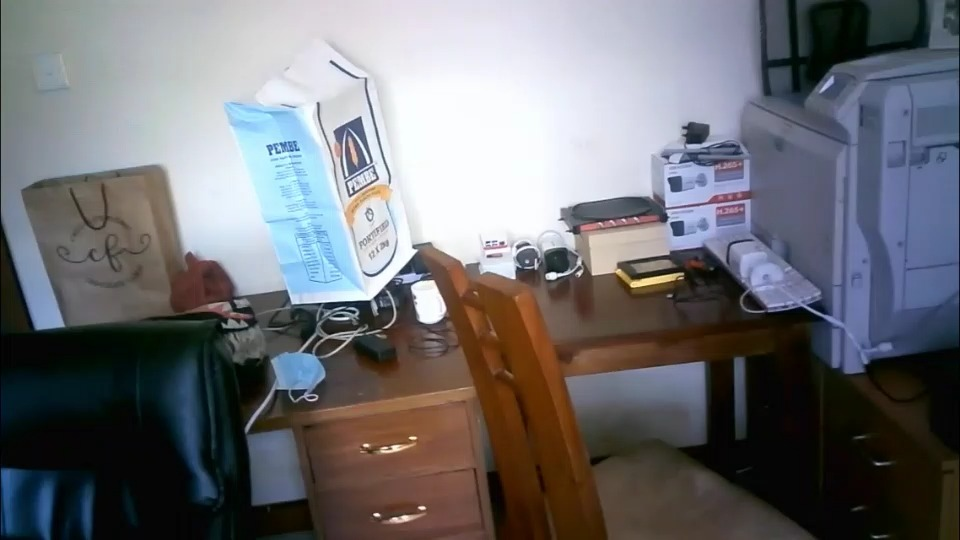wheat_flour_blue_label: (226, 41, 416, 296)
